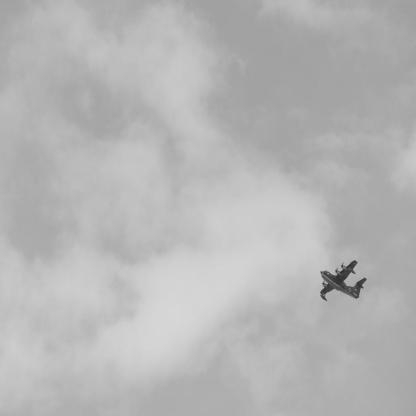US2: (321, 261, 368, 303)
